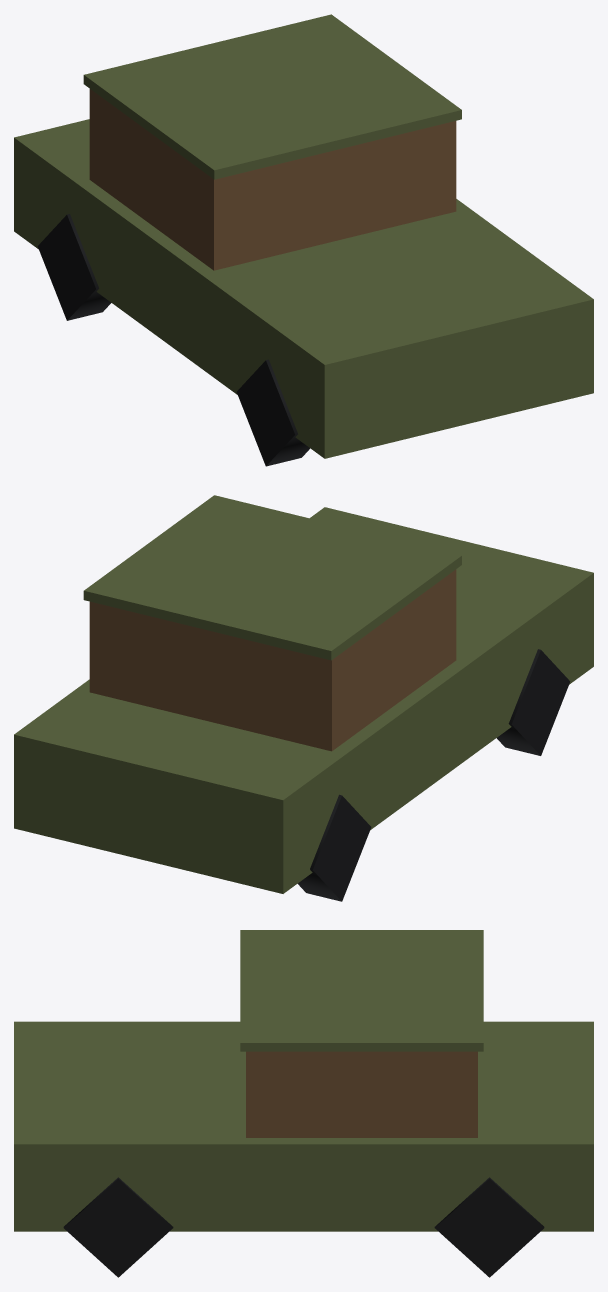
File: veh_ground_jeep_a05_lod2.glb
The picture shows the model from 3 angles, top to bottom: view 1: azimuth 30°, elevation 25°; view 2: azimuth 150°, elevation 25°; view 3: azimuth 270°, elevation 25°; orthographic projection. The views are drawn at different scales.
Visible parts, largest first — view 1: body, wheel_0, wheel_2; view 2: body, wheel_2, wheel_0; view 3: body, wheel_1, wheel_3.
Part boxes in pixels (x1,y1,x2,y2): body: (14, 14, 593, 458); wheel_0: (37, 214, 111, 320); wheel_2: (236, 359, 309, 466); body: (14, 495, 593, 893); wheel_2: (497, 649, 570, 755); wheel_0: (297, 794, 371, 901); body: (14, 930, 593, 1231); wheel_1: (434, 1177, 544, 1277); wheel_3: (63, 1177, 173, 1277).
Size of the model in its own units: 1.84 by 1.57 by 3.6.
